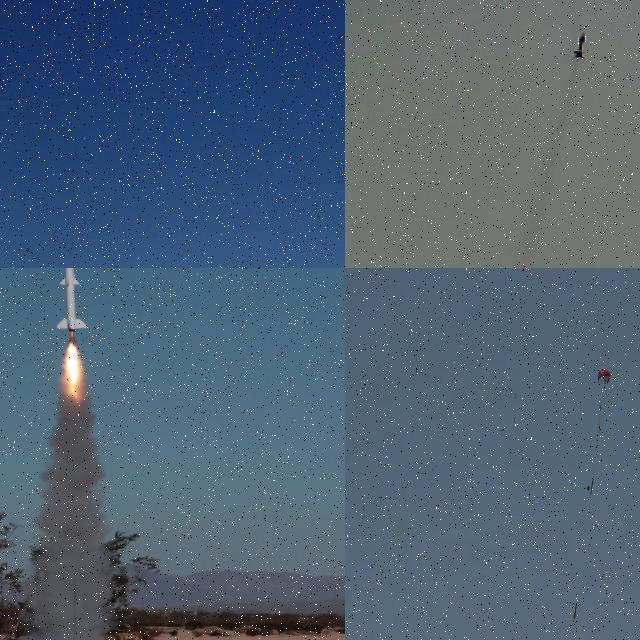Rocket: (56, 268, 88, 332), (572, 31, 587, 58), (573, 602, 578, 620)
